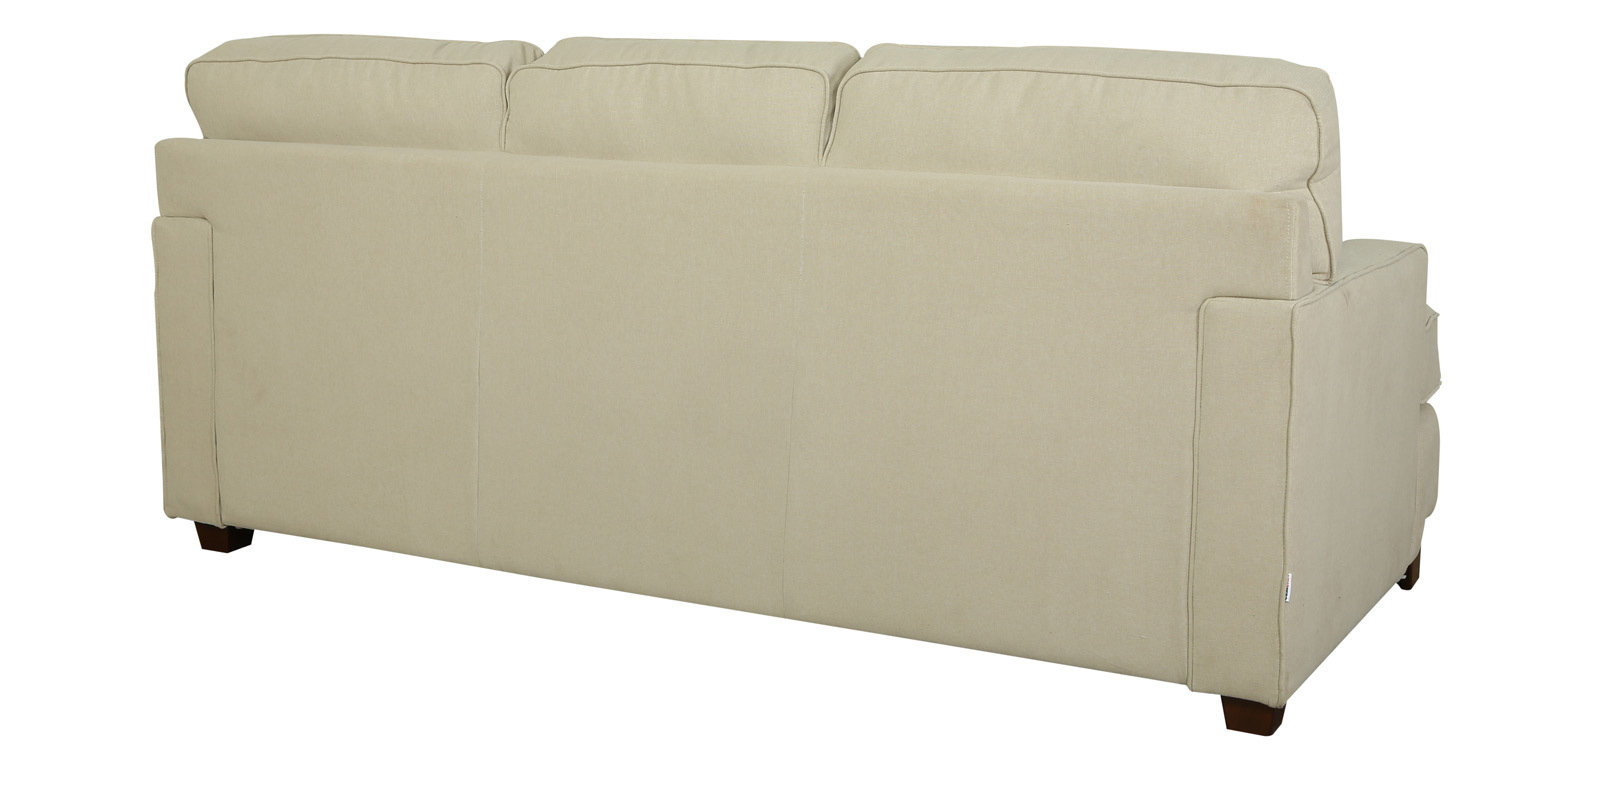Parana Three Seater Sofa in Beige Color by CasaCraft: (149, 29, 1444, 739)
